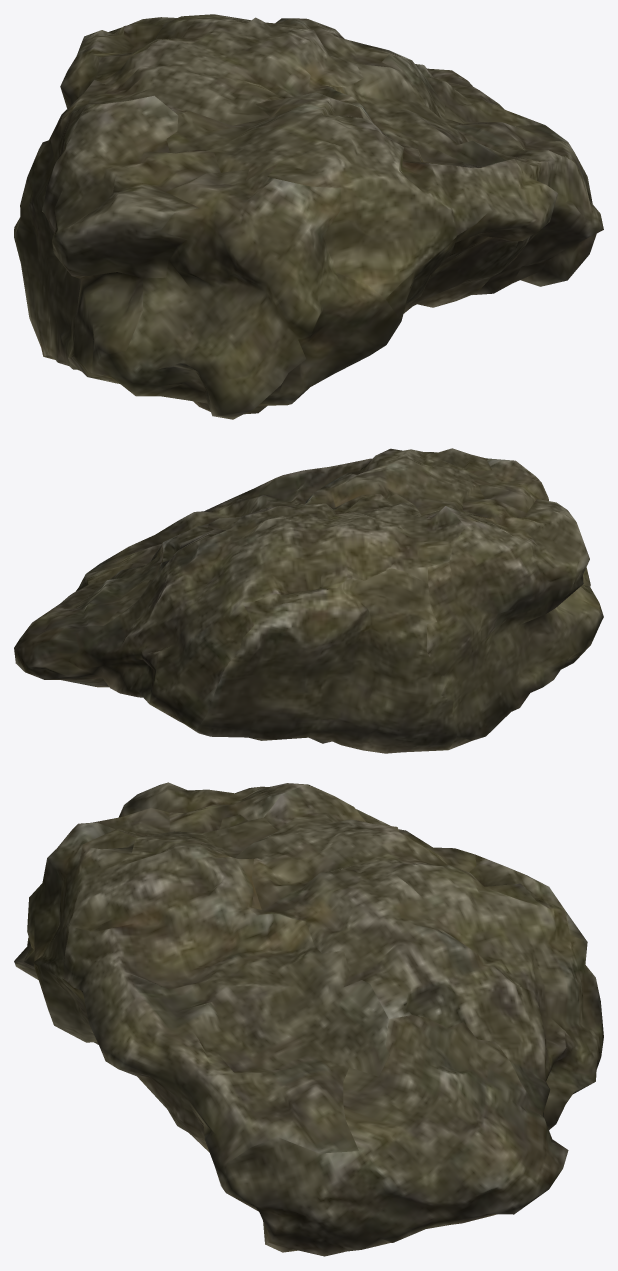
Rendered from SM_RockMoss_B06.gltf.
3 renders of one model, top to bottom at view 1: azimuth 30°, elevation 25°; view 2: azimuth 150°, elevation 25°; view 3: azimuth 270°, elevation 25°, orthographic. The views are drawn at different scales.
Parts seen in each view (by area): view 1: SM_RockMoss_B06; view 2: SM_RockMoss_B06; view 3: SM_RockMoss_B06.
Part boxes in pixels (x1,y1,x2,y2): SM_RockMoss_B06: (14, 14, 603, 419); SM_RockMoss_B06: (14, 448, 603, 753); SM_RockMoss_B06: (14, 782, 603, 1256).
Size of the model in its own units: 1.58 by 0.7341 by 1.44.
1 material, 1 textured.
